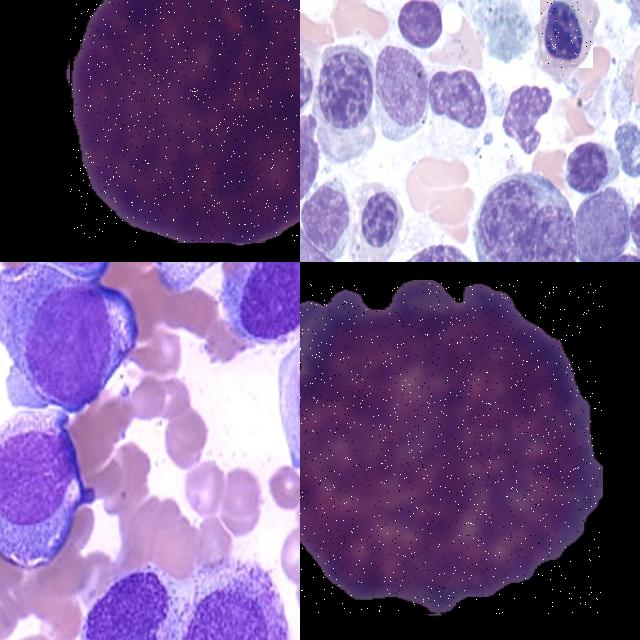ALL Negative Cells: (300, 280, 602, 614)
ALL Positive Cell: (70, 0, 300, 242), (14, 276, 138, 404), (171, 561, 285, 640), (72, 558, 178, 640), (234, 262, 300, 362), (540, 0, 593, 67), (564, 141, 621, 189), (402, 1, 441, 46)
